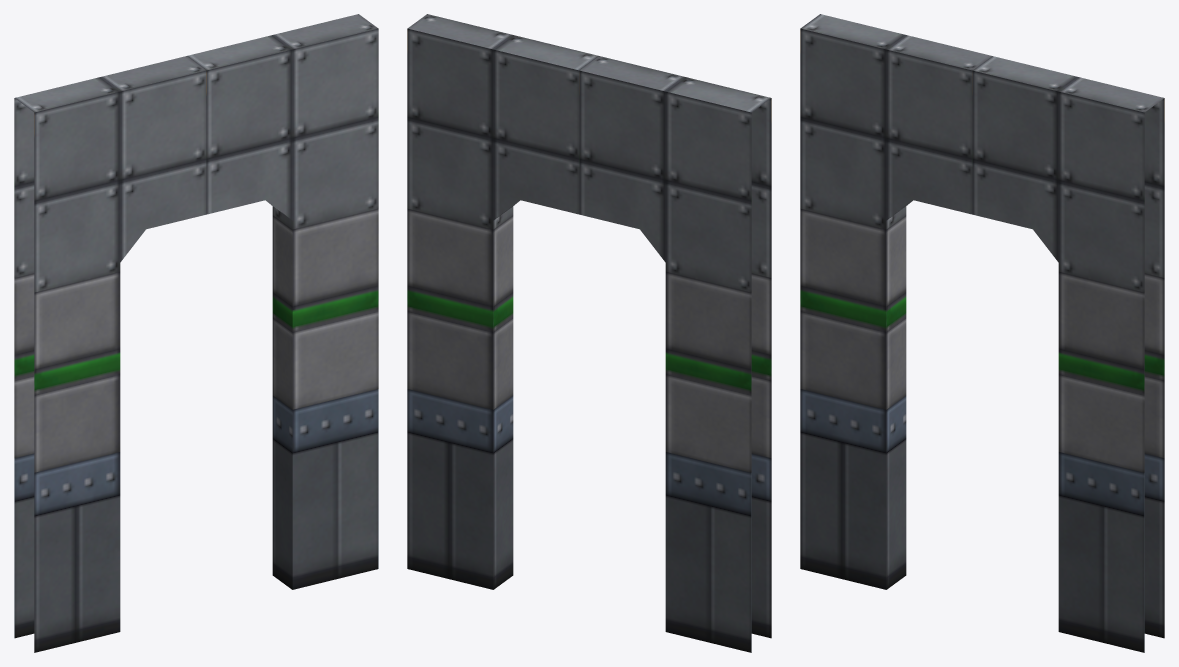
Rendered from wall_doorway_station.obj.
3 renders of one model, left to right at view 1: azimuth 30°, elevation 25°; view 2: azimuth 150°, elevation 25°; view 3: azimuth 330°, elevation 25°, orthographic.
Visible parts, largest first — view 1: wall_doorway_station, wall_doorway_station_2, wall_doorway_station_1; view 2: wall_doorway_station, wall_doorway_station_2, wall_doorway_station_1; view 3: wall_doorway_station_2, wall_doorway_station, wall_doorway_station_1.
Boxes of the visible parts, <box> form: wall_doorway_station: <box>14,77,120,652</box>; wall_doorway_station_2: <box>272,14,378,589</box>; wall_doorway_station_1: <box>101,35,292,262</box>; wall_doorway_station: <box>665,77,771,652</box>; wall_doorway_station_2: <box>407,14,513,589</box>; wall_doorway_station_1: <box>493,35,684,262</box>; wall_doorway_station_2: <box>1058,77,1164,652</box>; wall_doorway_station: <box>800,14,906,589</box>; wall_doorway_station_1: <box>886,35,1077,262</box>.
Size of the model in its own units: 2 by 3 by 0.2.
Materials: 1 (1 with a texture image).
